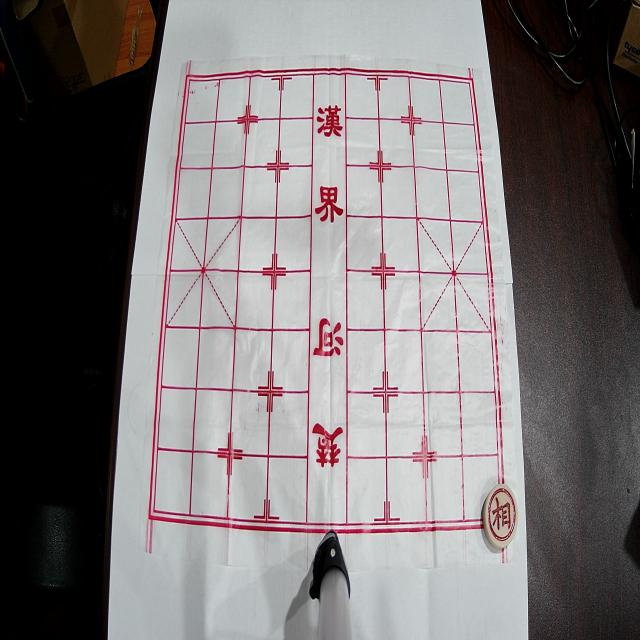red-elephant: (482, 484, 518, 550)
